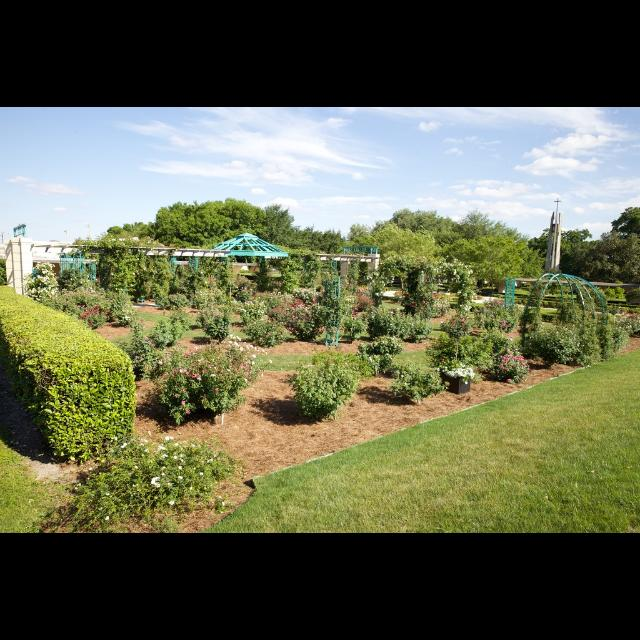Flower: (73, 436, 223, 508), (162, 336, 276, 412), (192, 277, 330, 335), (399, 257, 449, 321), (423, 256, 477, 312), (62, 278, 122, 324), (494, 346, 532, 384), (23, 260, 57, 302), (344, 276, 374, 318), (437, 362, 475, 388), (477, 301, 509, 331), (614, 312, 640, 332), (450, 312, 468, 332)
